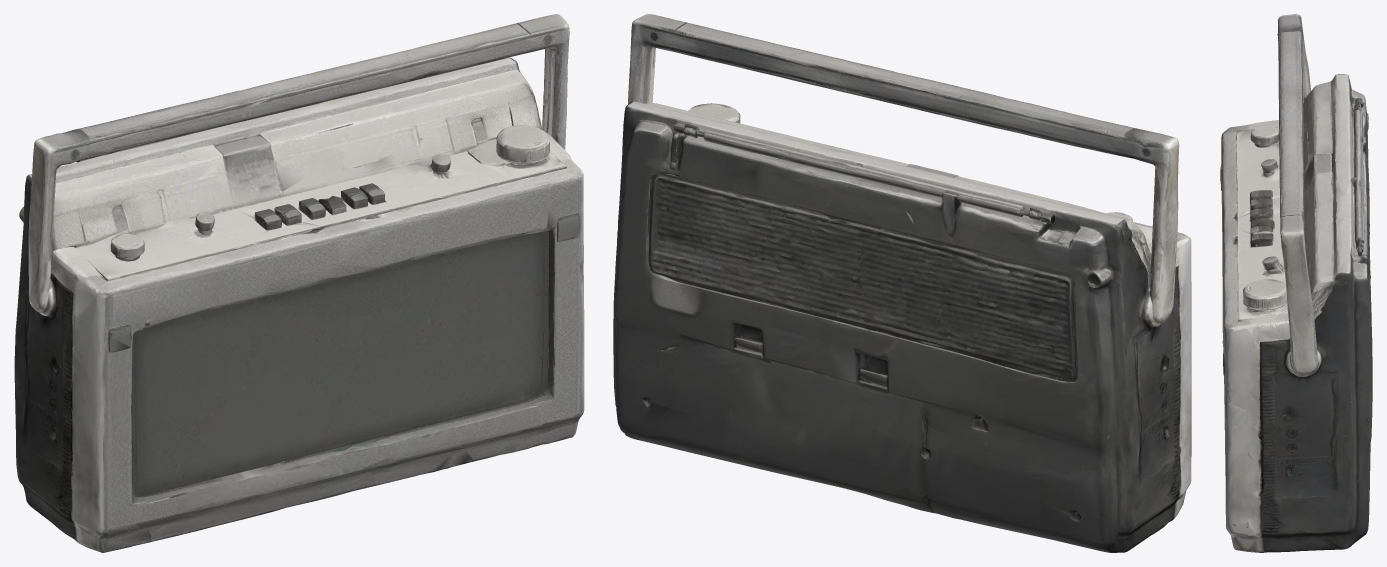
The model's file is sony-01.glb.
3 views of the same model, side by side, from view 1: azimuth 30°, elevation 25°; view 2: azimuth 150°, elevation 25°; view 3: azimuth 270°, elevation 25° (orthographic). The views are drawn at different scales.
Visible parts, largest first — view 1: mesh_node; view 2: mesh_node; view 3: mesh_node.
Boxes of the visible parts, x1,y1,x2,y2 form: mesh_node: (14,14,584,552); mesh_node: (613,14,1191,552); mesh_node: (1220,14,1372,552).
Size of the model in its own units: 1.9 by 1.35 by 0.5629.
Materials: 1 (1 with a texture image).
